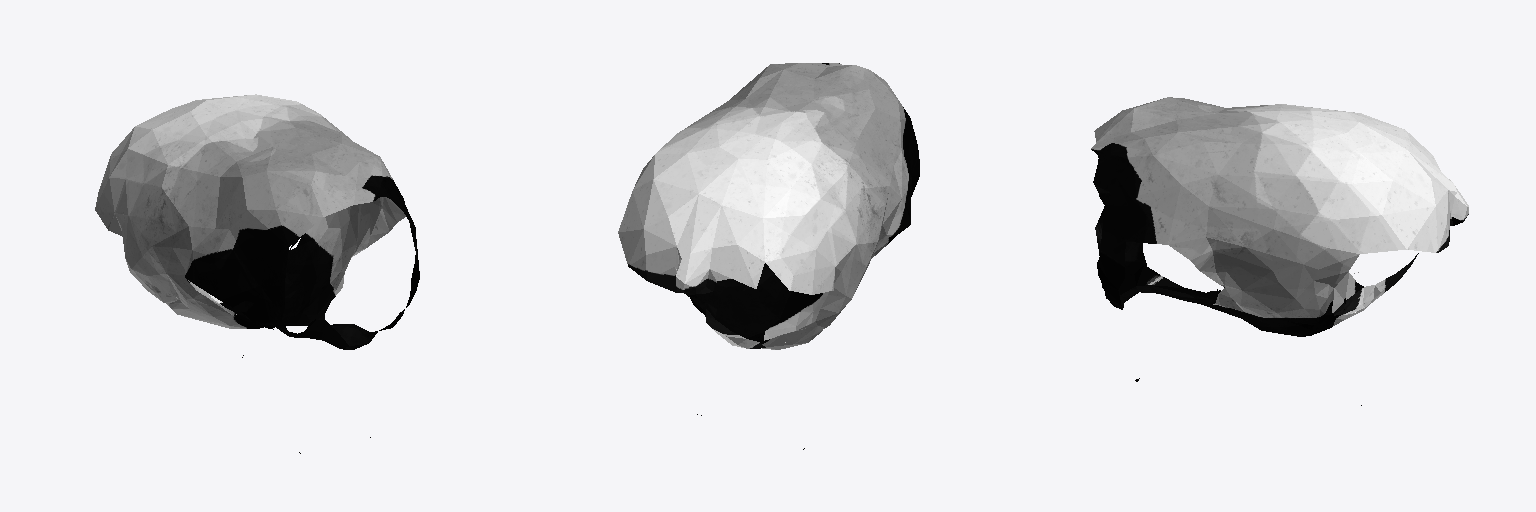
3 renders of one model, left to right at view 1: azimuth 30°, elevation 25°; view 2: azimuth 150°, elevation 25°; view 3: azimuth 270°, elevation 25°, orthographic.
Visible parts, largest first — view 1: panda.1; view 2: panda.1; view 3: panda.1.
Boxes of the visible parts, box(x1,y1,x2,y2) form: panda.1: box(95, 94, 419, 453); panda.1: box(618, 63, 919, 449); panda.1: box(1091, 97, 1468, 405).
Size of the model in its own units: 1.22 by 1.53 by 1.86.
1 materials, 1 textured.